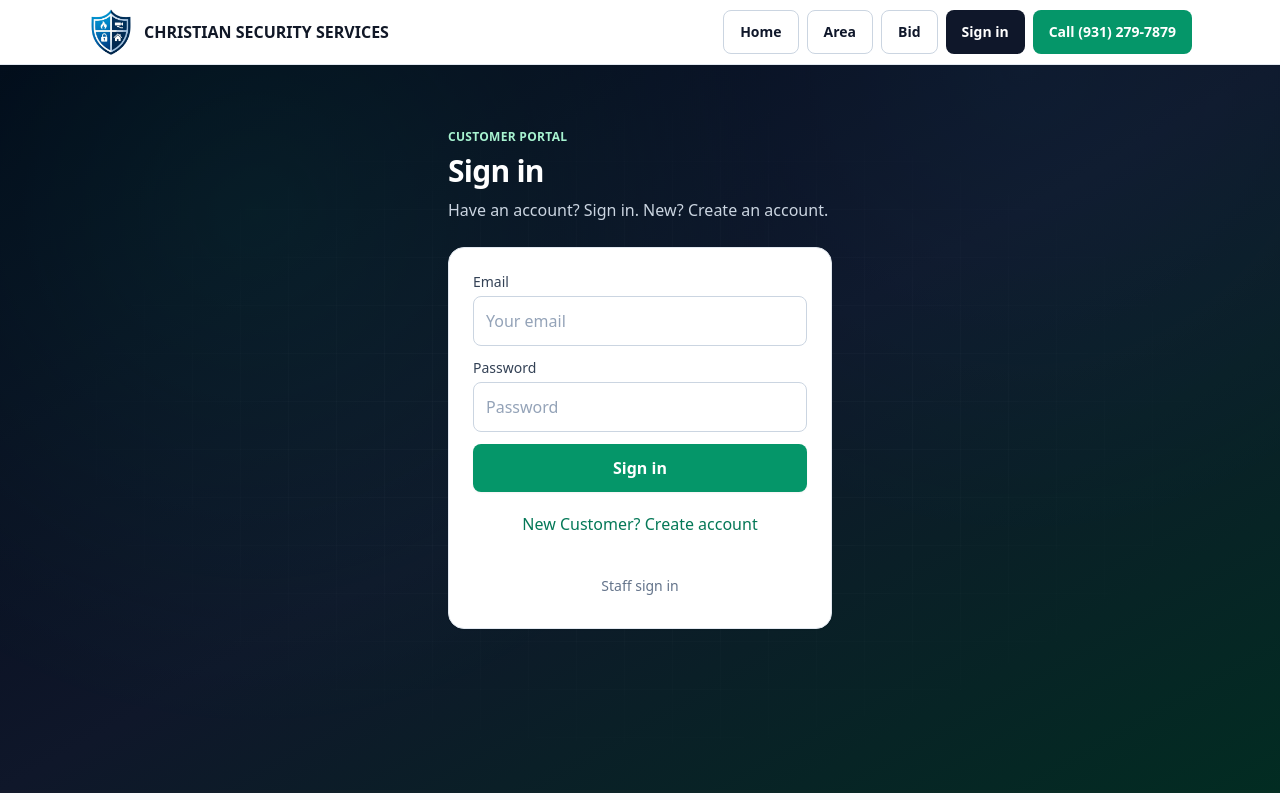
Test: Login Component › Login Functionality › should handle 500 error (server error)
Step 1. Click the button "Staff sign in" → (640, 586), box [473, 568, 807, 604]
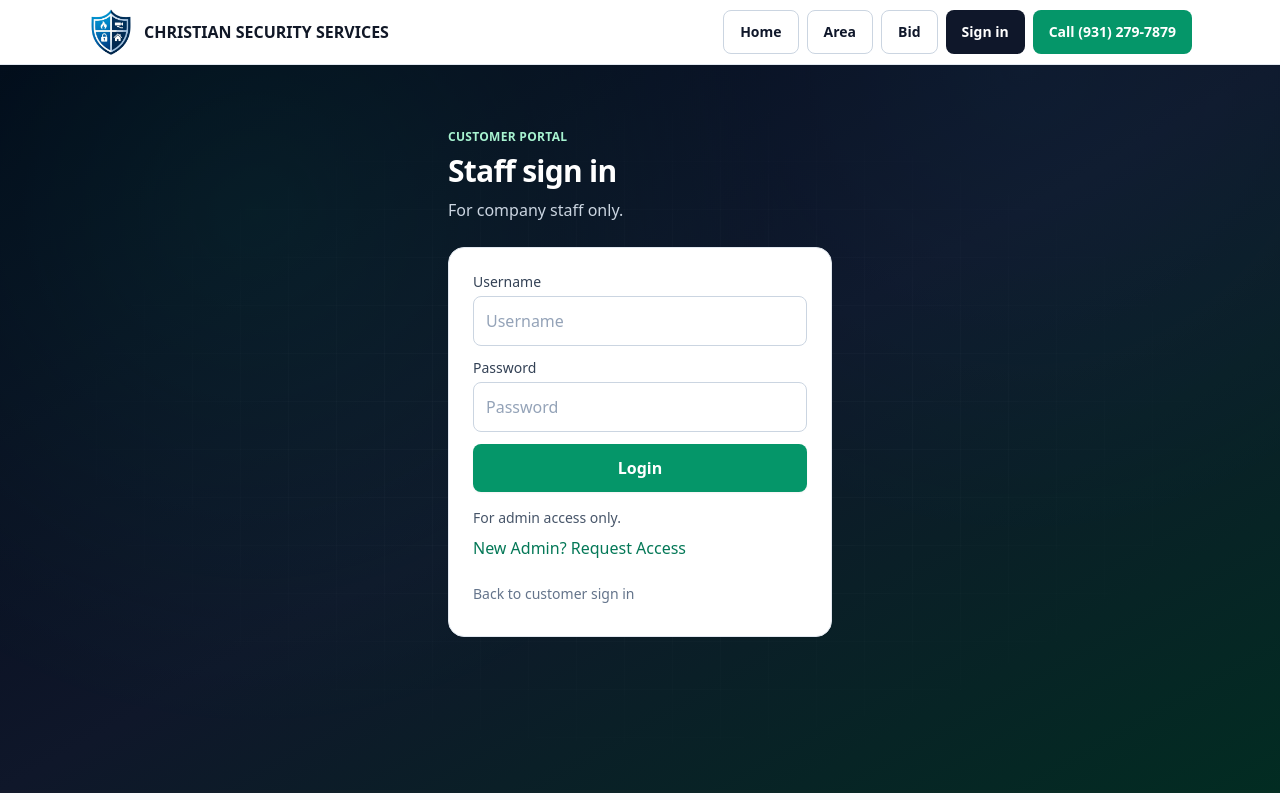
Step 2. Type "testuser" into the field with test id "admin-login-username" → (640, 321), box [473, 296, 807, 346]
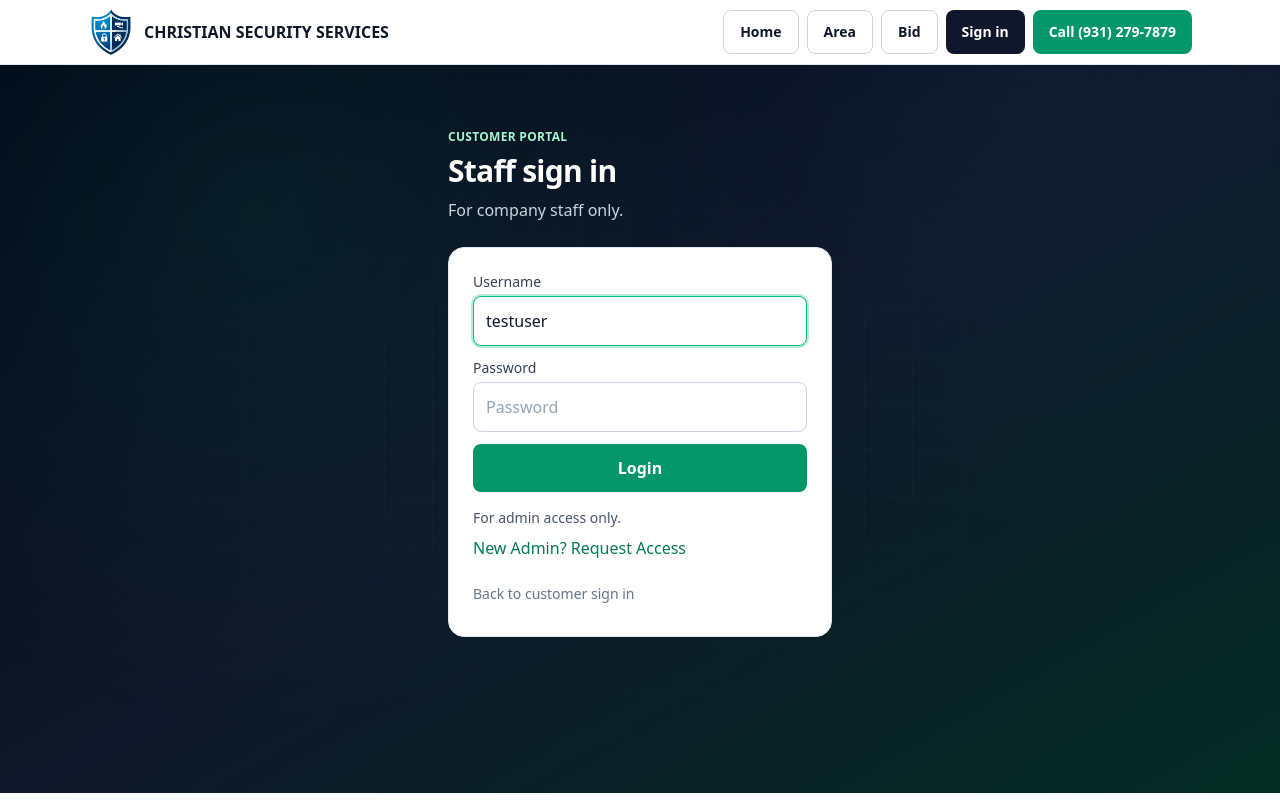
Step 3. Type "password" into the password field with test id "admin-login-password" → (640, 407), box [473, 382, 807, 432]
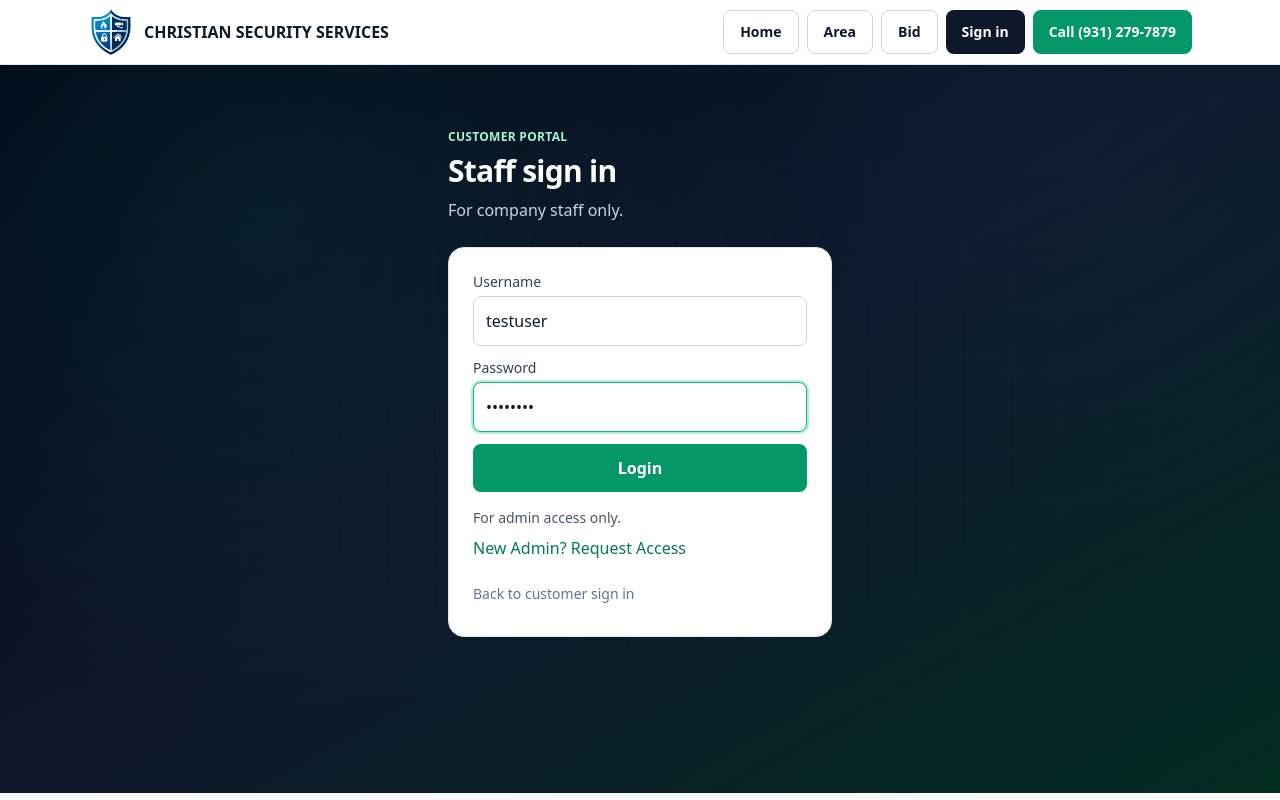
Step 4. Click the button "Login" → (640, 468), box [473, 444, 807, 492]
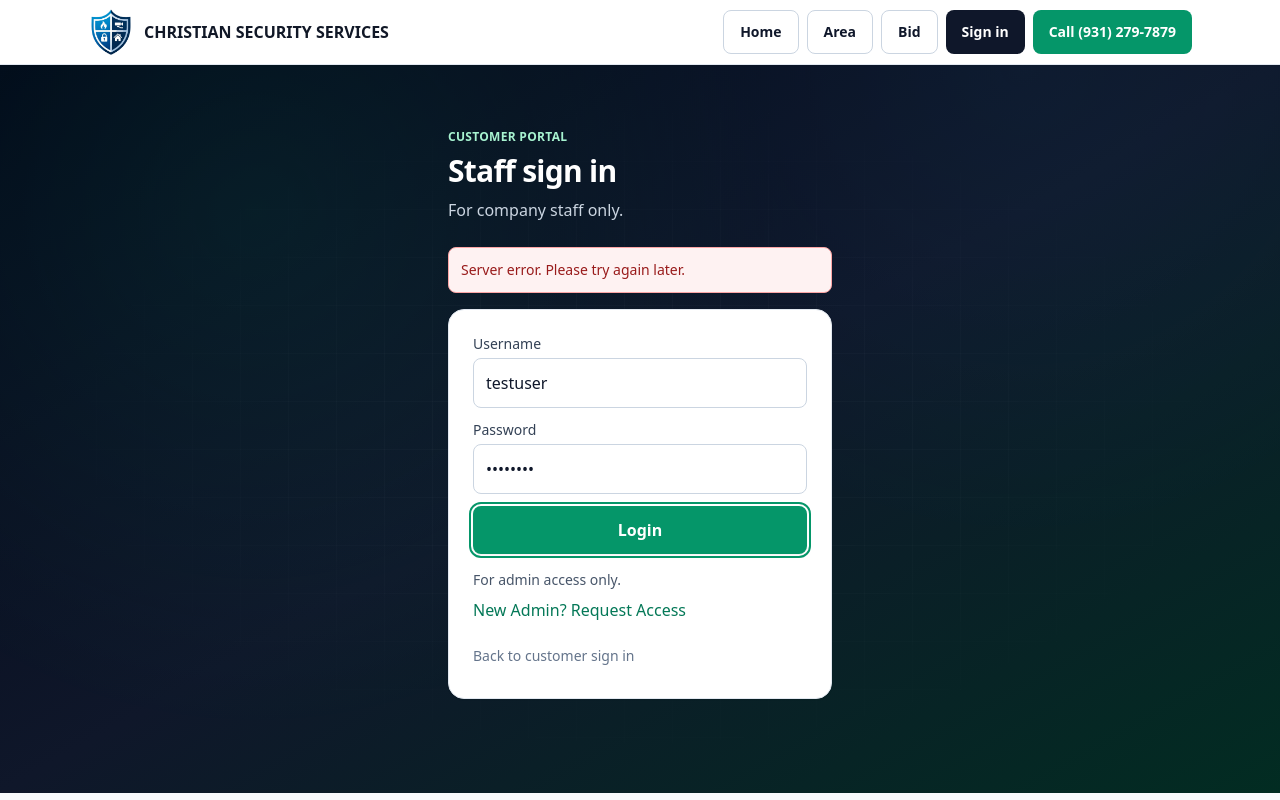
Result: the message with test id "form-status" shows "Server error" at [461, 260, 685, 279]
